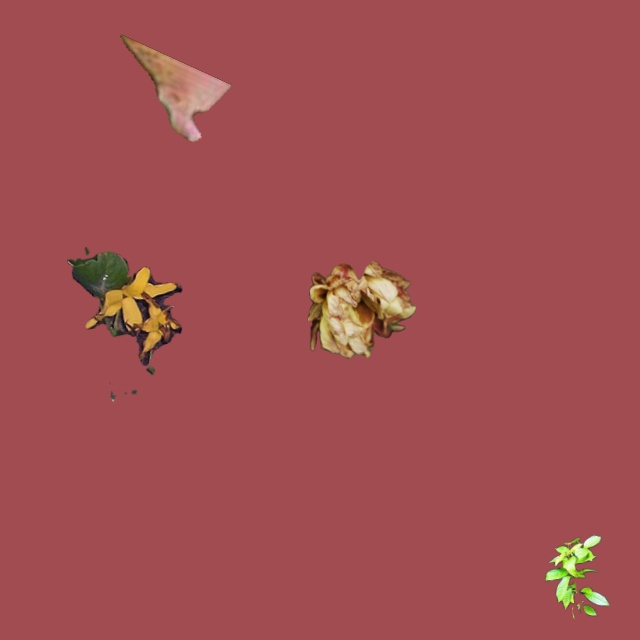dahlia: (308, 261, 415, 358)
foxglove: (120, 35, 230, 141)
jasmine: (545, 535, 609, 618)
ylang-ylang: (68, 248, 181, 400)
